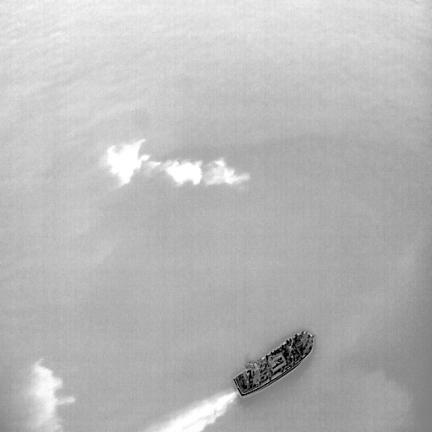flukeprints: (107, 139, 148, 184), (205, 159, 249, 185), (163, 160, 201, 185), (146, 161, 162, 171)
